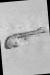D52: (2, 0, 49, 74)
